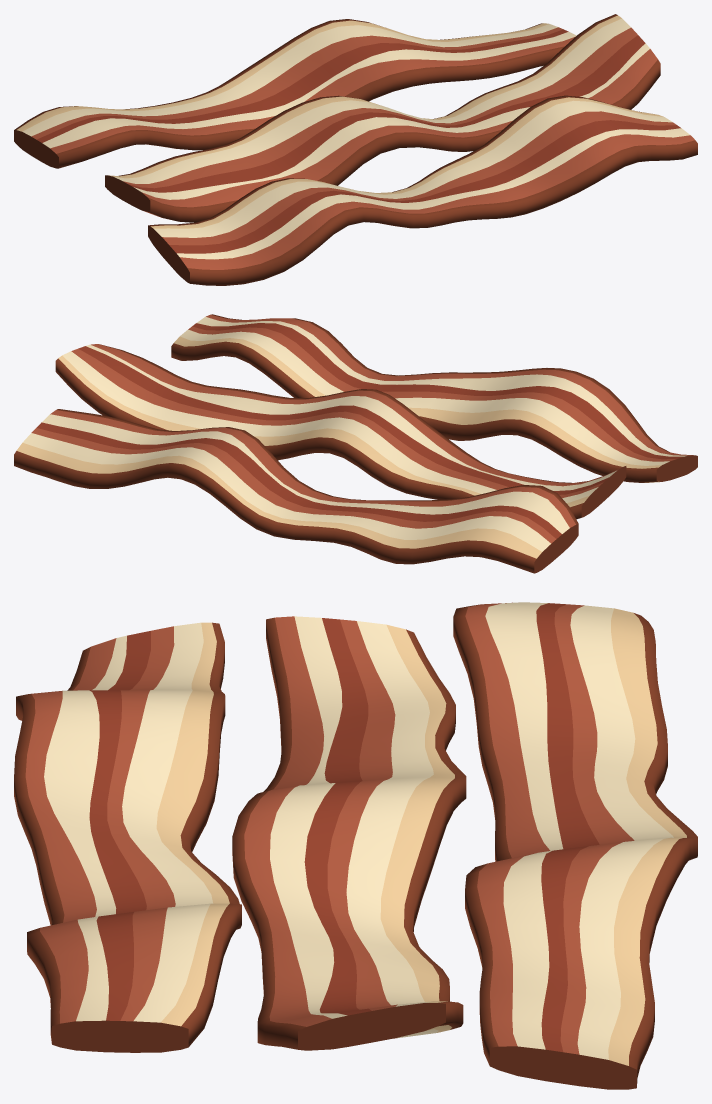
File: bacon.glb
3 views of the same model, one above another, from view 1: azimuth 30°, elevation 25°; view 2: azimuth 150°, elevation 25°; view 3: azimuth 270°, elevation 25° (orthographic). The views are drawn at different scales.
Visible parts, largest first — view 1: Batch Pale bacon fat, Batch Cooked bacon meat, Batch Toasted bacon edge, Batch Crisp bacon meat, Batch Golden bacon fat; view 2: Batch Pale bacon fat, Batch Toasted bacon edge, Batch Cooked bacon meat, Batch Crisp bacon meat, Batch Golden bacon fat; view 3: Batch Pale bacon fat, Batch Cooked bacon meat, Batch Toasted bacon edge, Batch Crisp bacon meat, Batch Golden bacon fat.
Boxes of the visible parts, <box> form: Batch Pale bacon fat: <box>22,18,690,259</box>; Batch Cooked bacon meat: <box>31,27,694,269</box>; Batch Toasted bacon edge: <box>14,14,697,285</box>; Batch Crisp bacon meat: <box>37,29,680,253</box>; Batch Golden bacon fat: <box>17,15,663,228</box>; Batch Pale bacon fat: <box>23,317,686,551</box>; Batch Toasted bacon edge: <box>14,314,697,573</box>; Batch Cooked bacon meat: <box>31,314,693,543</box>; Batch Crisp bacon meat: <box>36,323,683,538</box>; Batch Golden bacon fat: <box>16,336,661,558</box>; Batch Pale bacon fat: <box>44,602,673,1059</box>; Batch Cooked bacon meat: <box>25,602,634,1054</box>; Batch Toasted bacon edge: <box>14,604,697,1089</box>; Batch Crisp bacon meat: <box>89,603,599,1051</box>; Batch Golden bacon fat: <box>156,608,686,1065</box>.
Bounding box in the file's own units: 1 × 0.1162 × 0.6673.
